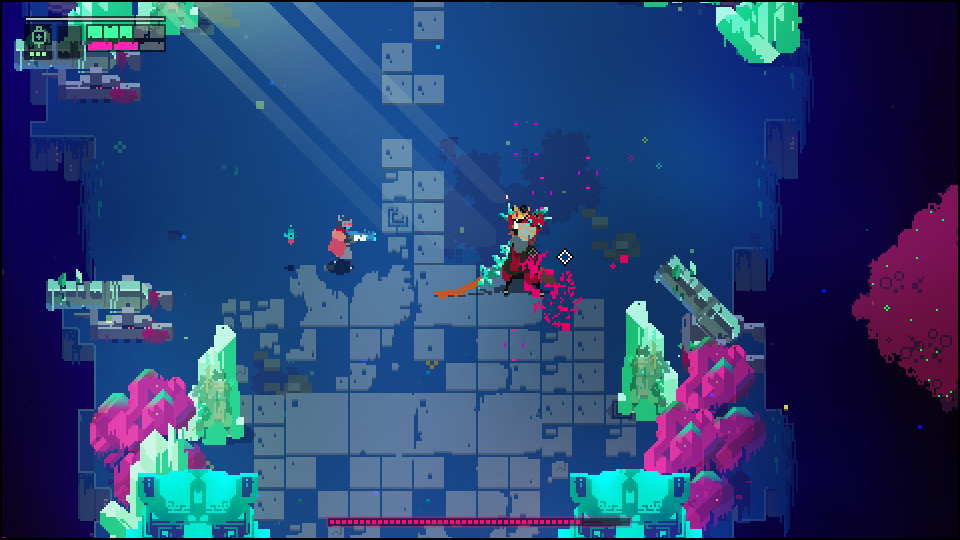hanged_man: (478, 201, 549, 299)
player: (329, 213, 378, 268)
